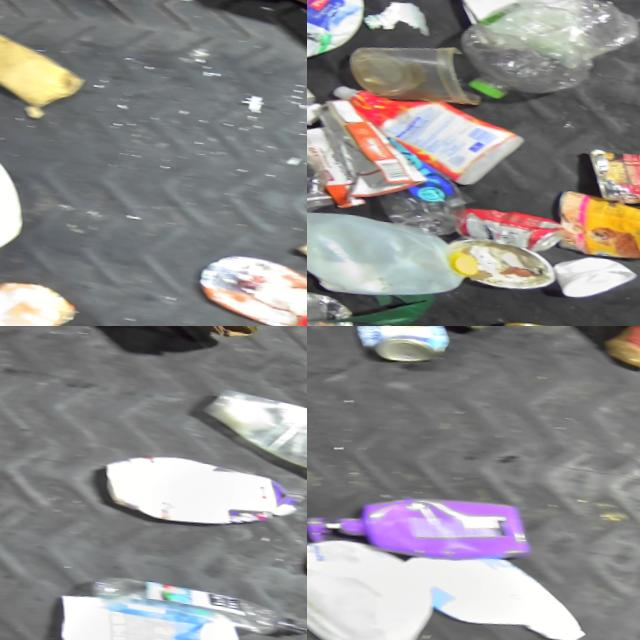can: (543, 188, 640, 261), (440, 200, 564, 252), (583, 135, 640, 209), (345, 326, 455, 362), (307, 290, 352, 326), (290, 530, 307, 581)
milk_jug: (307, 201, 482, 307), (307, 532, 445, 640)
non_white_jug: (316, 80, 517, 189), (307, 473, 519, 571)
plastic_bottle: (466, 0, 640, 112)
